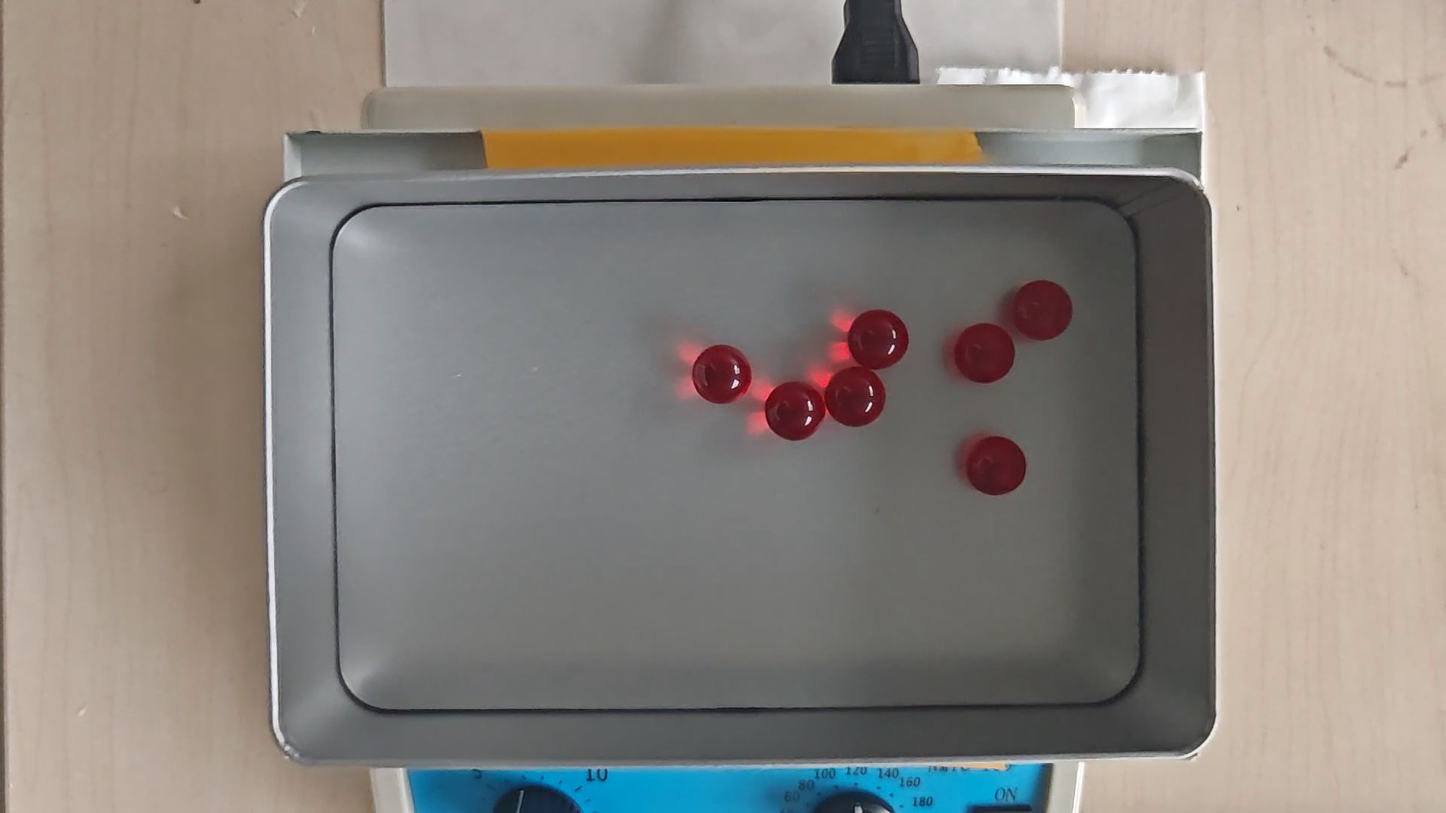ball: (825, 368, 886, 428), (955, 322, 1014, 383), (967, 436, 1026, 497), (1014, 279, 1072, 341), (691, 346, 749, 406), (850, 309, 908, 368), (767, 381, 823, 440)
container: (333, 199, 1140, 709)
